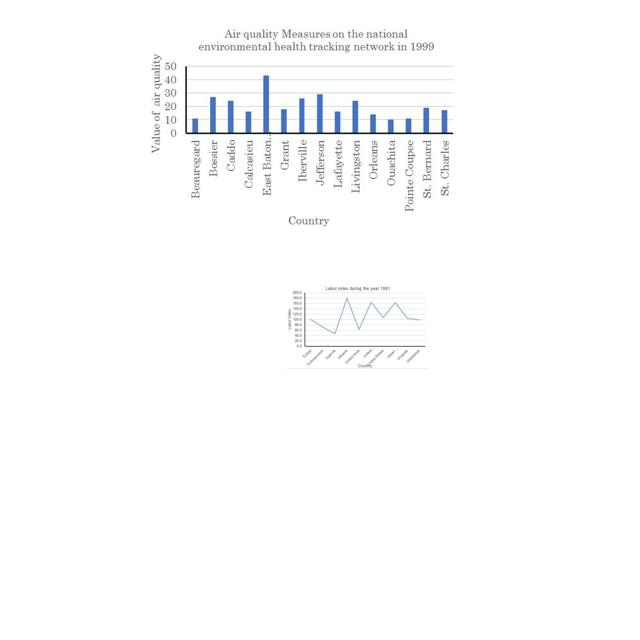Graph: (141, 23, 462, 232), (287, 285, 428, 369)
